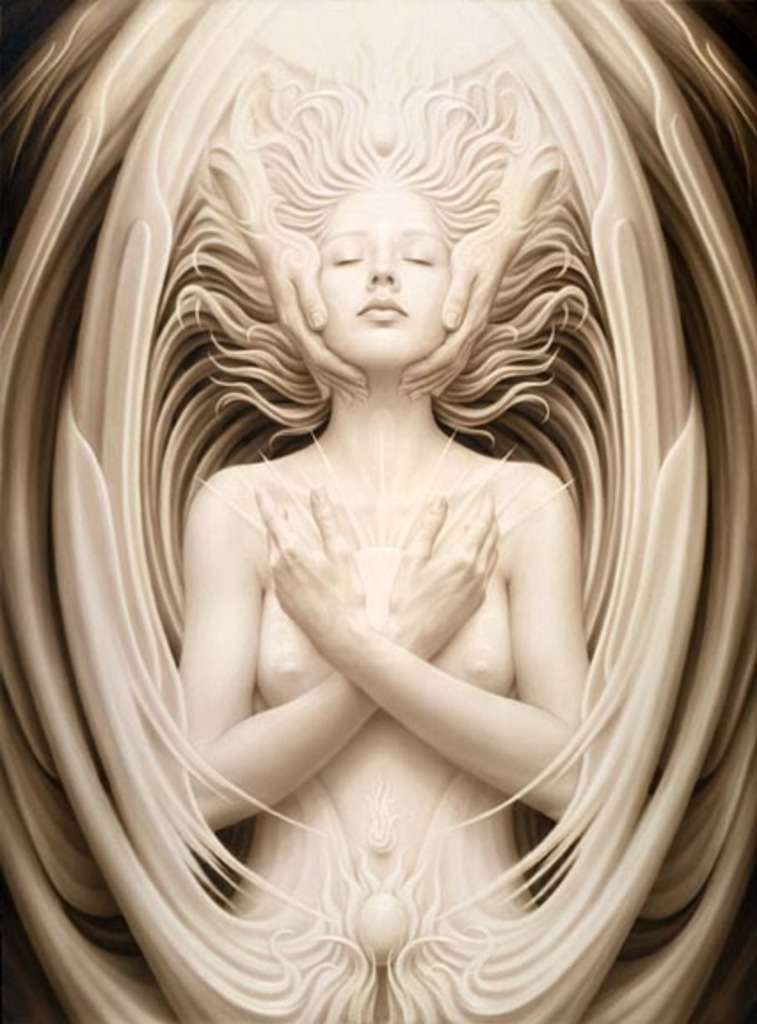face: (318, 174, 451, 362)
